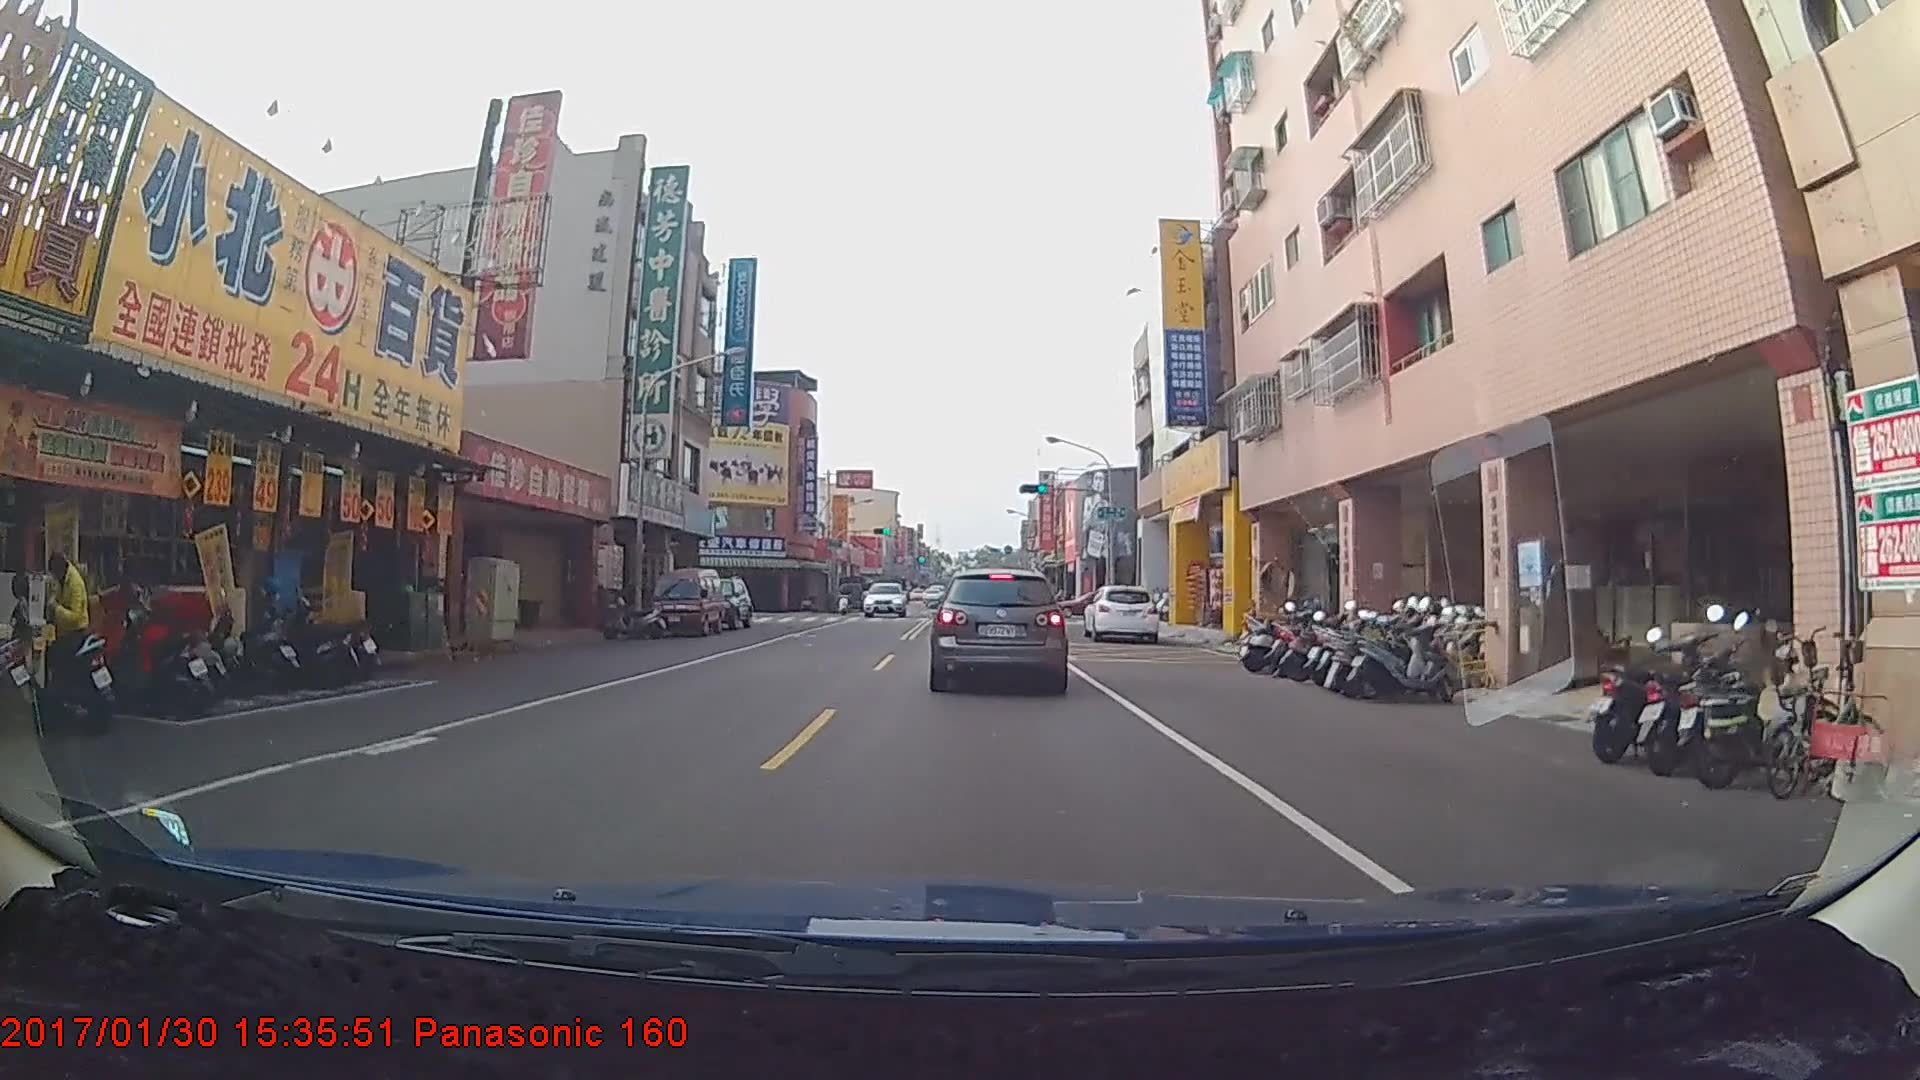pedestrian: (41, 545, 94, 727)
vehicle: (932, 567, 1068, 690), (646, 567, 724, 635), (1084, 584, 1159, 643), (687, 573, 752, 628), (861, 574, 896, 604)
